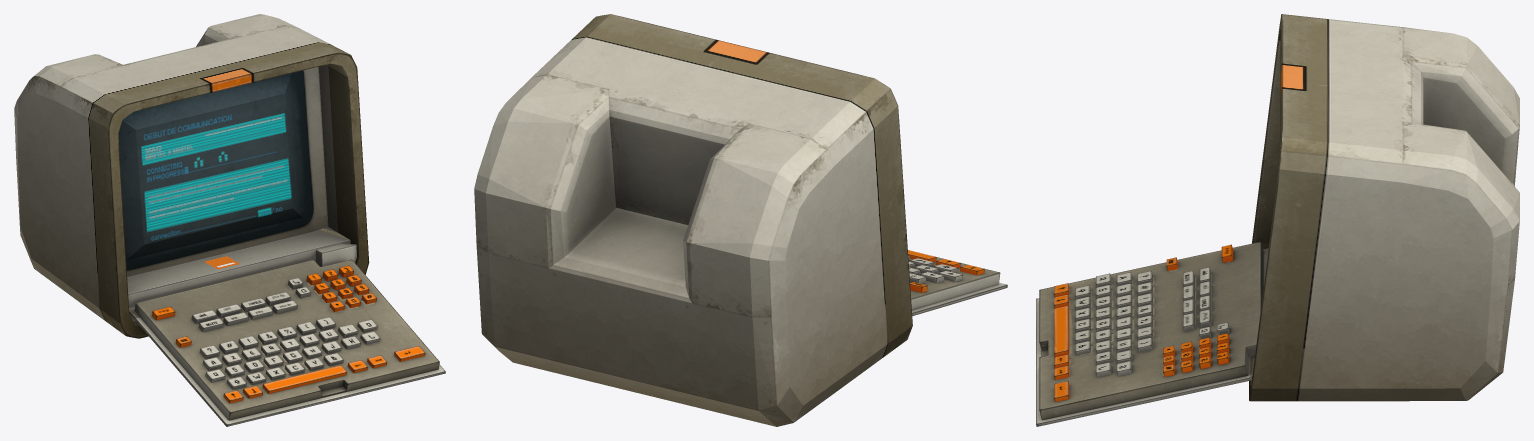
The model's file is orange_safe_zone_minitel_phone.glb.
3 views of the same model, side by side, from view 1: azimuth 30°, elevation 25°; view 2: azimuth 150°, elevation 25°; view 3: azimuth 270°, elevation 25° (orthographic). The views are drawn at different scales.
Size of the model in its own units: 0.3744 by 0.3523 by 0.5362.
Materials: 1 (1 with a texture image).
